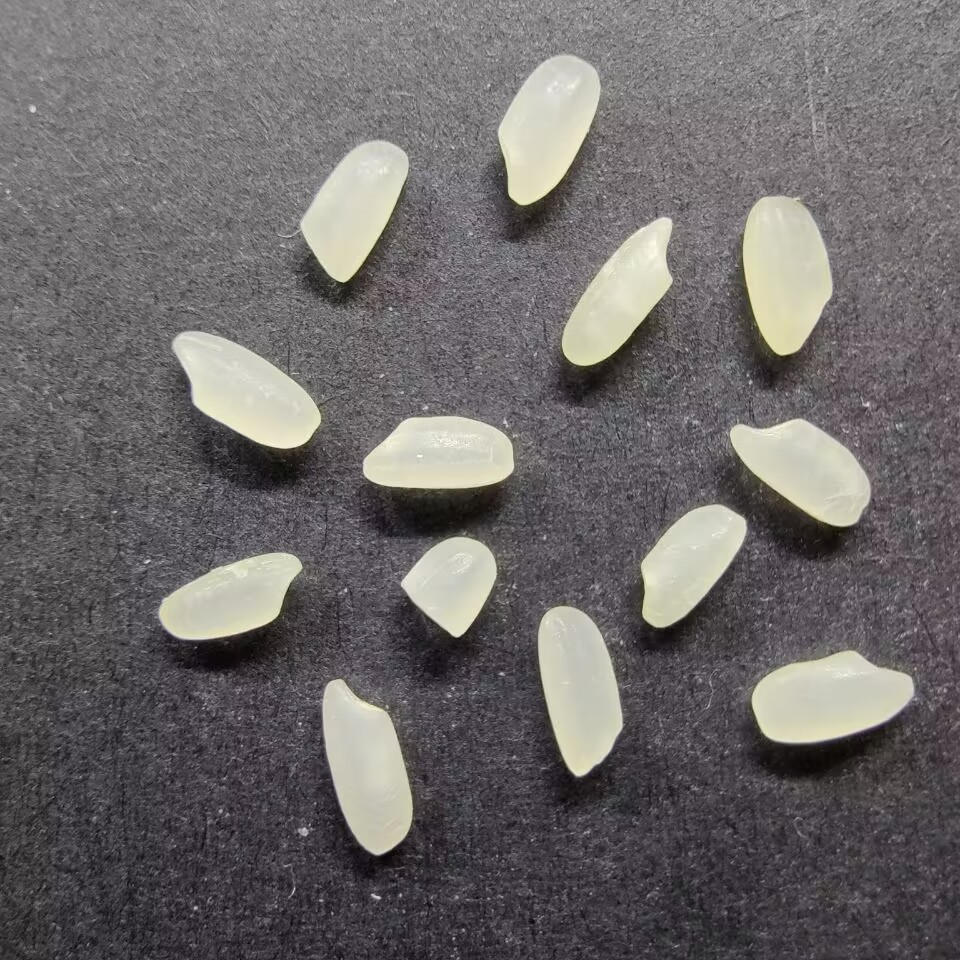broken: (399, 536, 497, 638)
rice: (169, 329, 322, 448), (559, 214, 676, 366), (319, 677, 415, 855), (497, 52, 602, 207), (727, 417, 873, 527), (298, 139, 408, 285), (749, 648, 915, 744), (536, 606, 627, 780), (741, 194, 834, 357), (638, 503, 748, 628), (155, 550, 301, 641), (360, 415, 516, 490)
